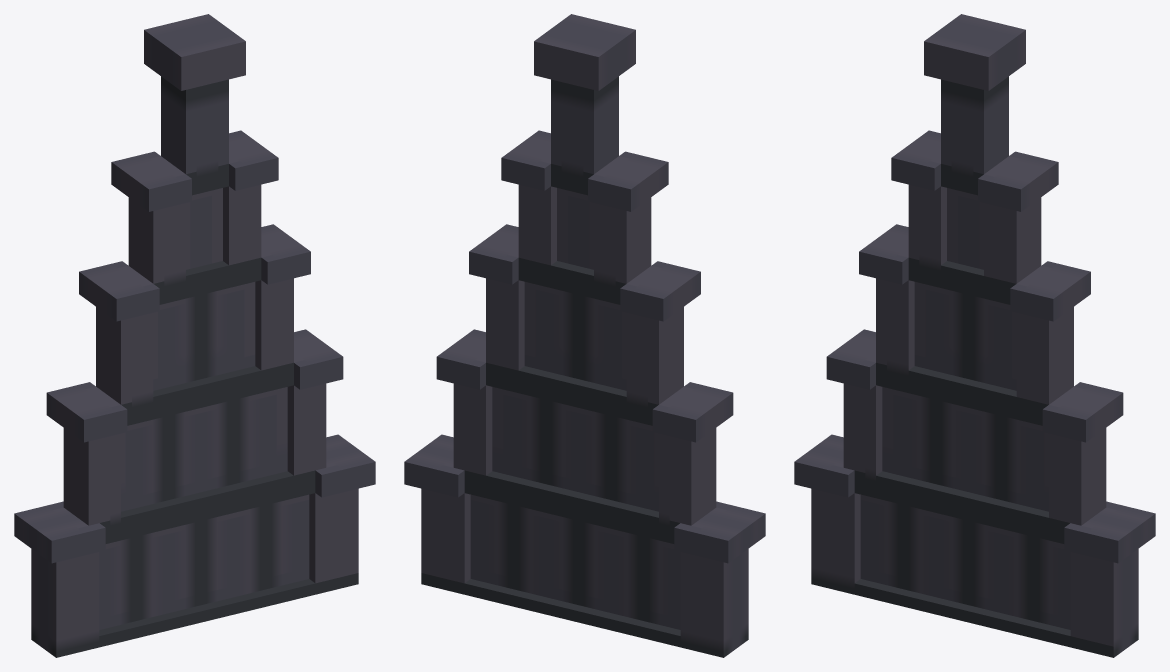
Rendered from Roof_Panel-5.fbx.
3 views of the same model, side by side, from view 1: azimuth 30°, elevation 25°; view 2: azimuth 150°, elevation 25°; view 3: azimuth 330°, elevation 25° (orthographic).
Parts seen in each view (by area): view 1: Roof_Panel-5; view 2: Roof_Panel-5; view 3: Roof_Panel-5.
Boxes of the visible parts, x1,y1,x2,y2 form: Roof_Panel-5: (14,14,375,657); Roof_Panel-5: (404,14,765,657); Roof_Panel-5: (794,14,1155,657).
Size of the model in its own units: 150 by 255 by 30.
